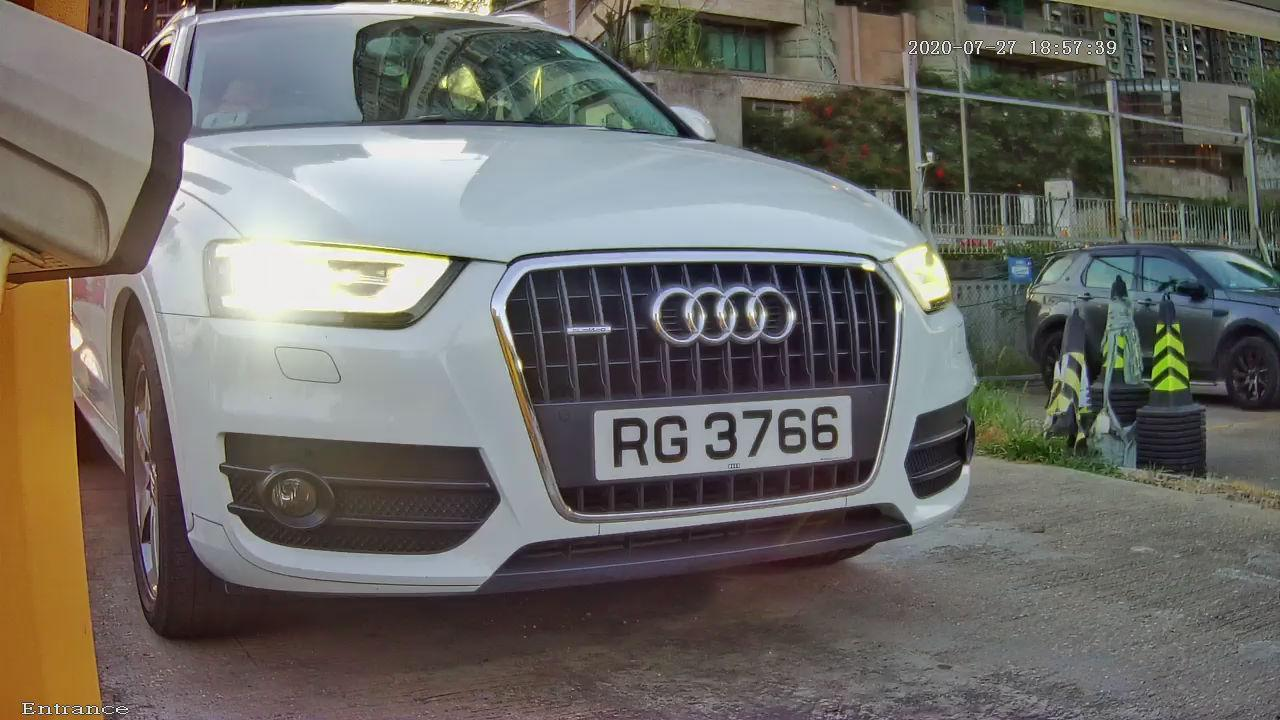privatecar: (98, 20, 1063, 634)
